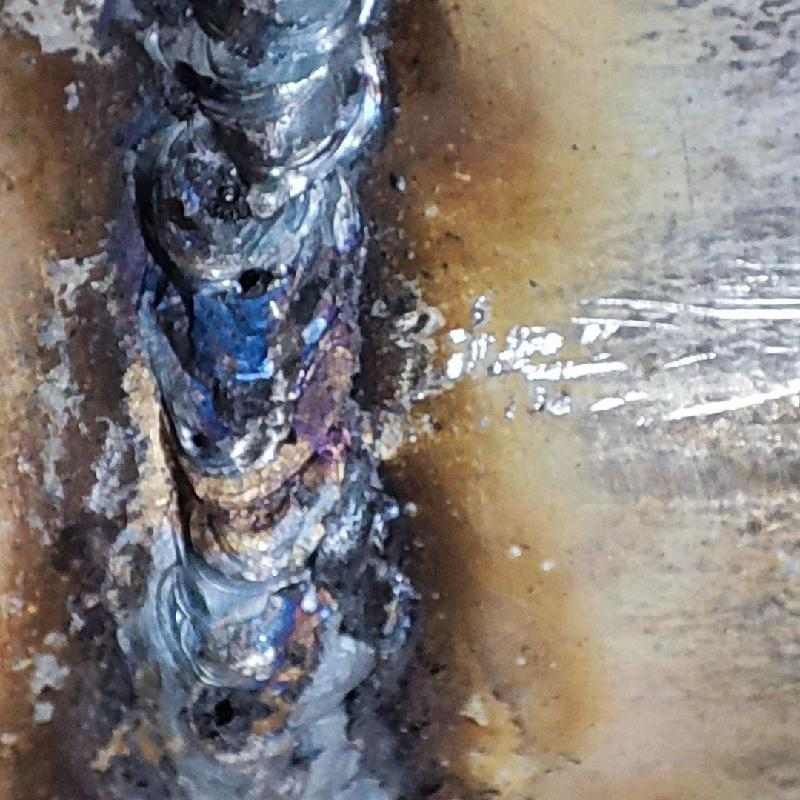Surface_pores: (194, 680, 264, 740), (226, 254, 288, 306), (175, 418, 224, 458)
